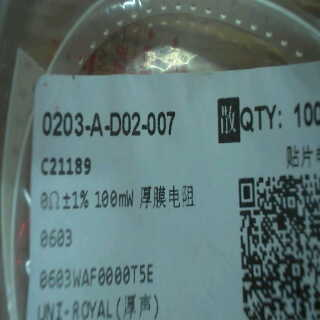0R: (38, 189, 135, 255)
